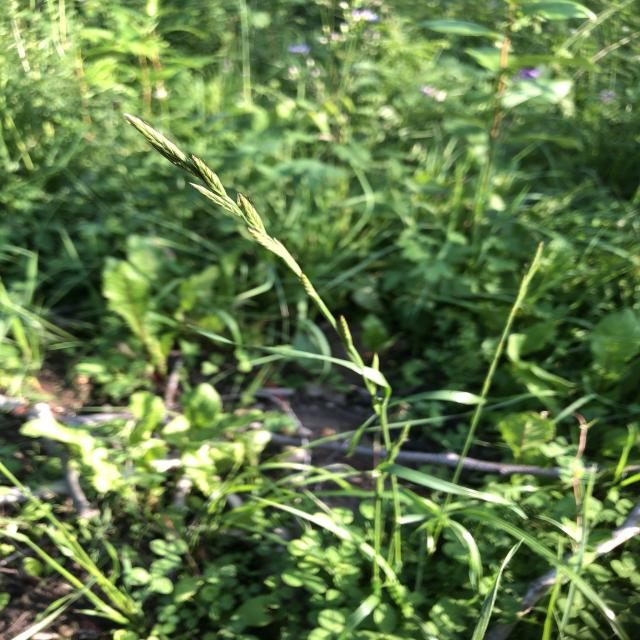Lolium: (140, 111, 429, 598)
